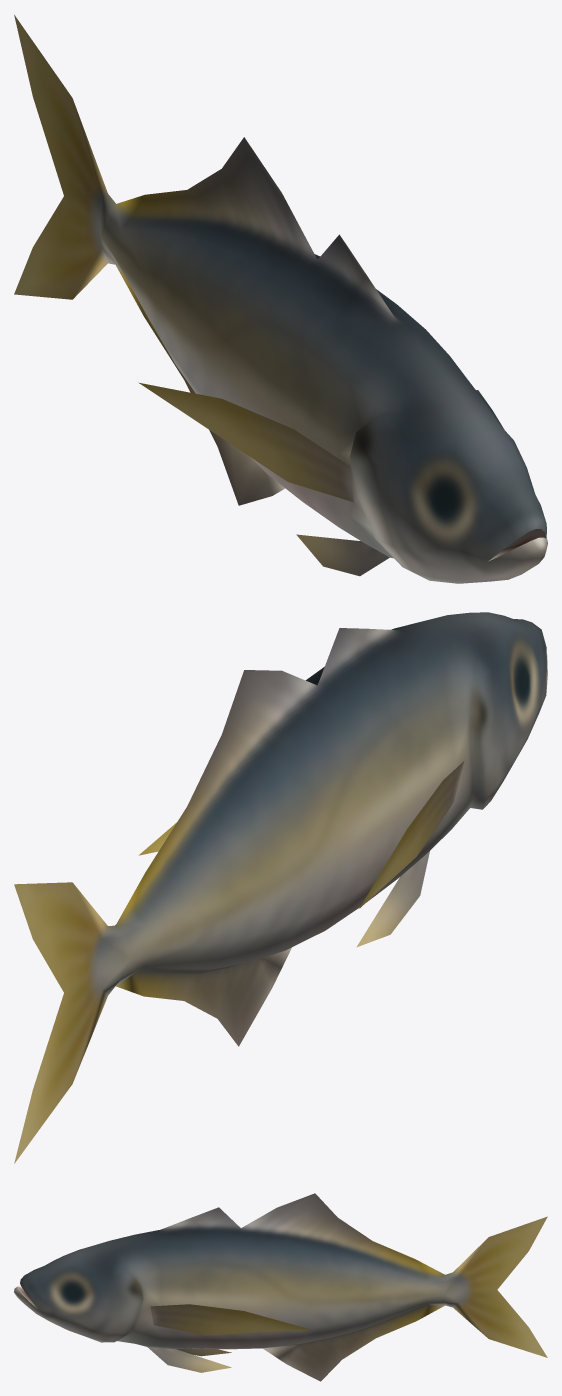
File: horse-mackerel.glb
3 views of the same model, one above another, from view 1: azimuth 30°, elevation 25°; view 2: azimuth 150°, elevation 25°; view 3: azimuth 270°, elevation 25° (orthographic). The views are drawn at different scales.
Parts seen in each view (by area): view 1: FishAji__mAji; view 2: FishAji__mAji; view 3: FishAji__mAji.
Part boxes in pixels (<box>): FishAji__mAji: <box>14,14,547,583</box>; FishAji__mAji: <box>14,612,547,1163</box>; FishAji__mAji: <box>14,1193,547,1381</box>.
Bounding box in the file's own units: 1.46 × 2.36 × 6.05.
Materials: 1 (1 with a texture image).
